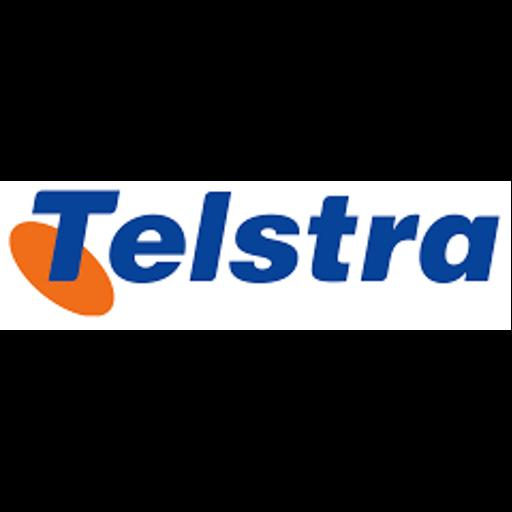Telstra Corporation Limited: (0, 181, 511, 330)
